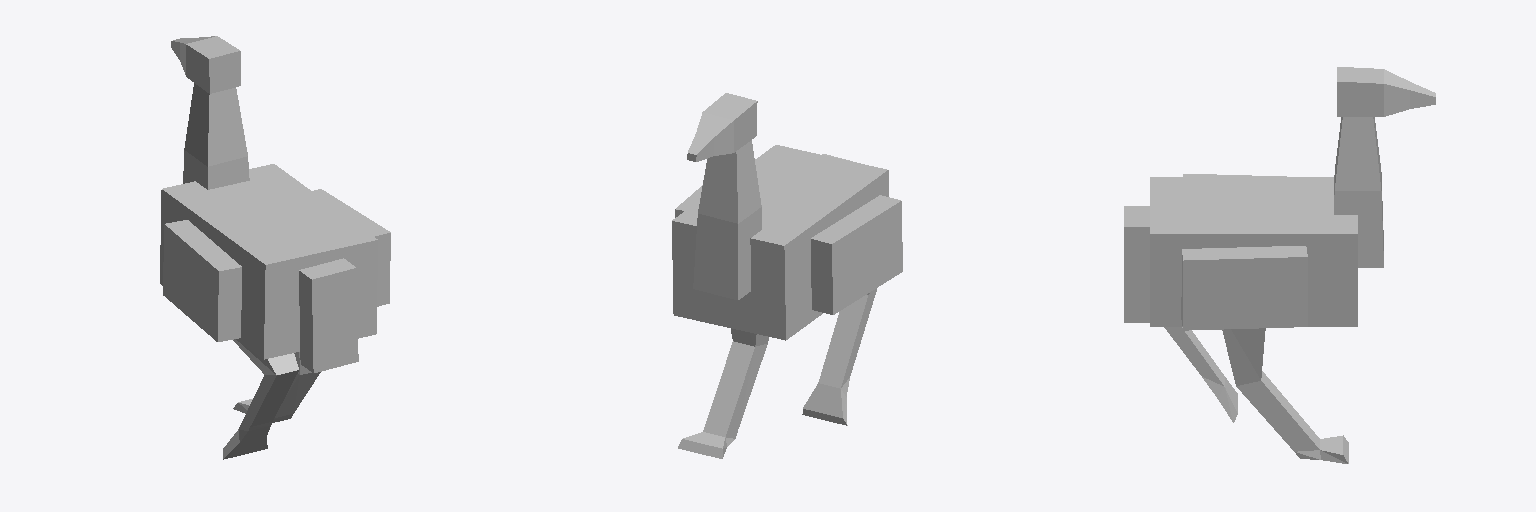
The model's file is Ostrich_000187.obj.
The picture shows the model from 3 angles: view 1: azimuth 30°, elevation 25°; view 2: azimuth 150°, elevation 25°; view 3: azimuth 270°, elevation 25°; orthographic projection.
Visible parts, largest first — view 1: Cube_Cube.001; view 2: Cube_Cube.001; view 3: Cube_Cube.001.
Part boxes in pixels (left/top/right/bottom): Cube_Cube.001: left=160, top=36, right=390, bottom=459; Cube_Cube.001: left=672, top=93, right=902, bottom=458; Cube_Cube.001: left=1124, top=67, right=1435, bottom=463.
Size of the model in its own units: 0.7698 by 1.54 by 1.2.